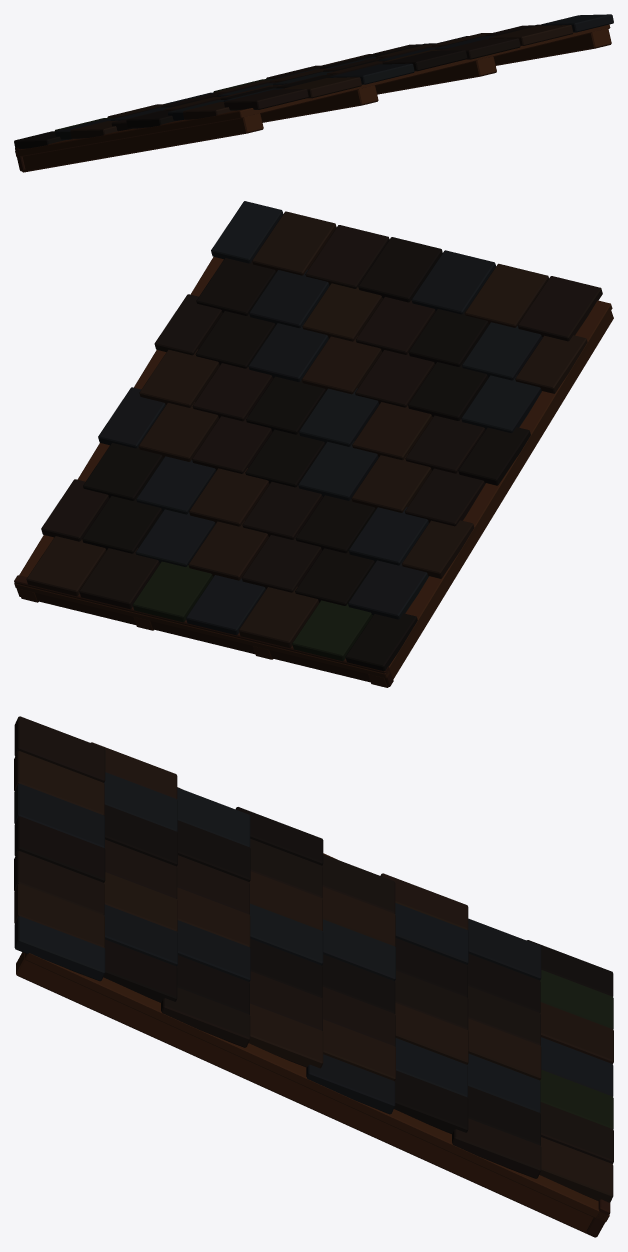
Rendered from mod_roof_rafter_26deg_2x2m.glb.
The picture shows the model from 3 angles, top to bottom: view 1: azimuth 30°, elevation 25°; view 2: azimuth 150°, elevation 25°; view 3: azimuth 270°, elevation 25°; orthographic projection. The views are drawn at different scales.
Parts seen in each view (by area): view 1: Mod_Roof_Rafter_26deg_2x2m; view 2: Mod_Roof_Rafter_26deg_2x2m; view 3: Mod_Roof_Rafter_26deg_2x2m.
Part boxes in pixels (<box>): Mod_Roof_Rafter_26deg_2x2m: <box>14,14,613,172</box>; Mod_Roof_Rafter_26deg_2x2m: <box>14,201,613,687</box>; Mod_Roof_Rafter_26deg_2x2m: <box>14,716,613,1237</box>.
Size of the model in its own units: 2 by 1.2 by 2.17.
